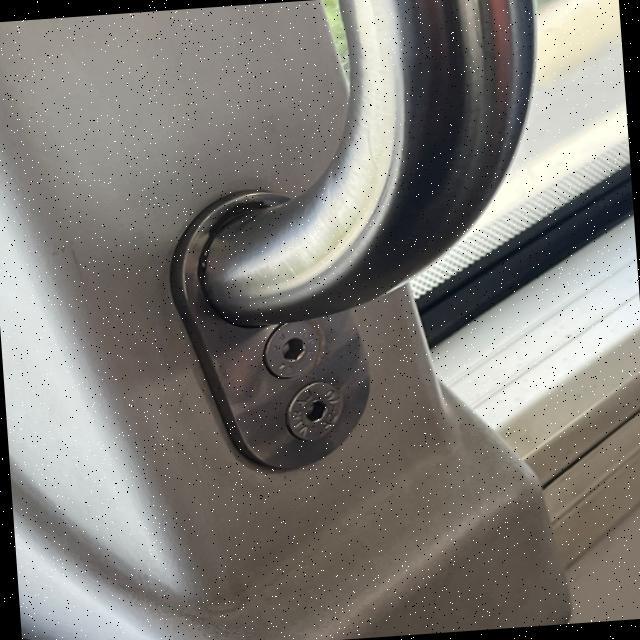Hex Socket Allen: (278, 378, 354, 442), (252, 318, 326, 380)
